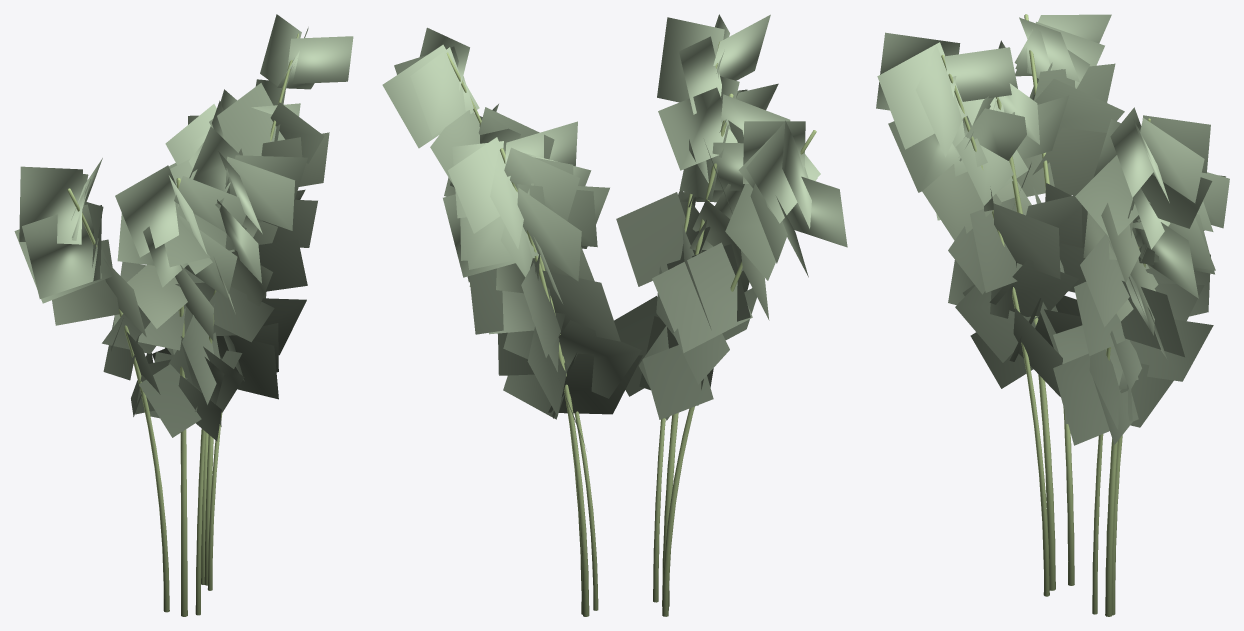
File: bamboo_2.glb
The picture shows the model from 3 angles, left to right: view 1: azimuth 30°, elevation 25°; view 2: azimuth 150°, elevation 25°; view 3: azimuth 270°, elevation 25°; orthographic projection. The views are drawn at different scales.
Visible parts, largest first — view 1: bamboo_37; view 2: bamboo_37; view 3: bamboo_37.
Boxes of the visible parts, left/top/right/bottom form: bamboo_37: left=14, top=14, right=353, bottom=616; bamboo_37: left=382, top=14, right=847, bottom=616; bamboo_37: left=876, top=14, right=1229, bottom=616.
Bounding box in the file's own units: 7.53 × 10.08 × 5.78.
